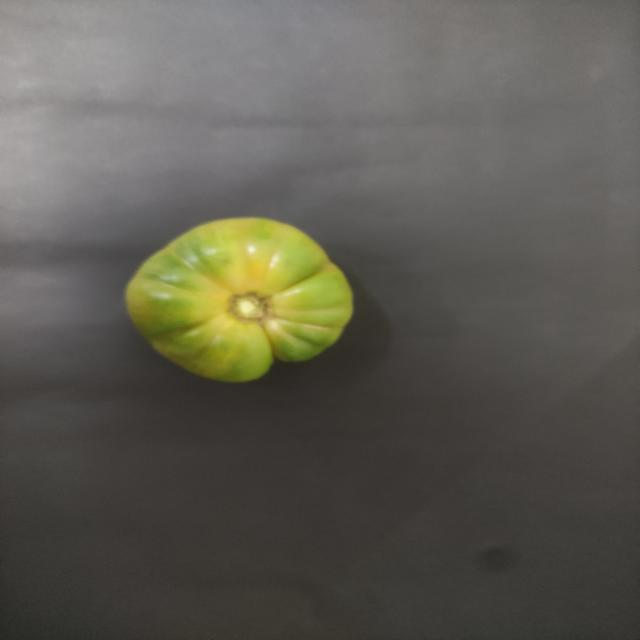yesil: (115, 209, 362, 386)
